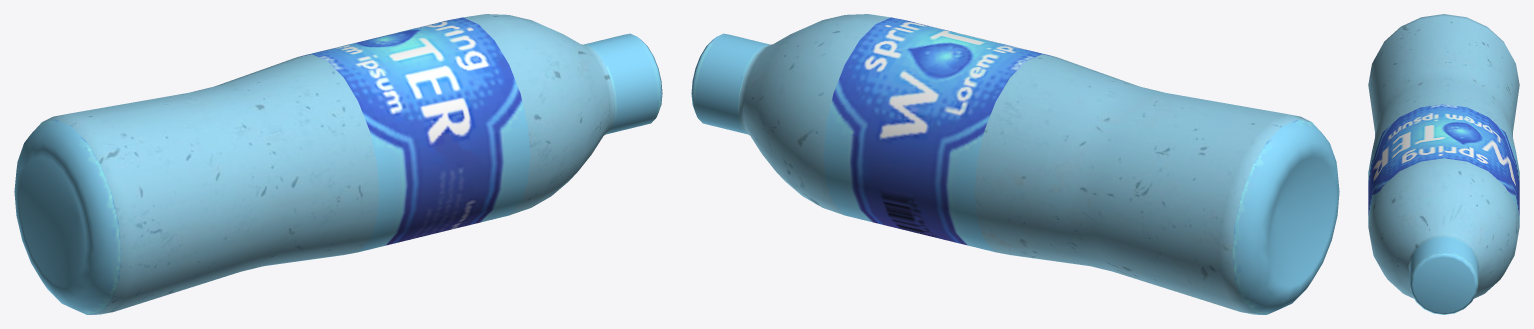
File: SM_Bottle.glb
3 renders of one model, left to right at view 1: azimuth 30°, elevation 25°; view 2: azimuth 150°, elevation 25°; view 3: azimuth 270°, elevation 25°, orthographic. The views are drawn at different scales.
Visible parts, largest first — view 1: SM_Bottle; view 2: SM_Bottle; view 3: SM_Bottle.
Boxes of the visible parts, <box> form: SM_Bottle: <box>14,14,662,314</box>; SM_Bottle: <box>691,14,1339,314</box>; SM_Bottle: <box>1368,14,1519,314</box>.
Size of the model in its own units: 0.1891 by 0.0573 by 0.0573.
2 materials, 2 textured.
